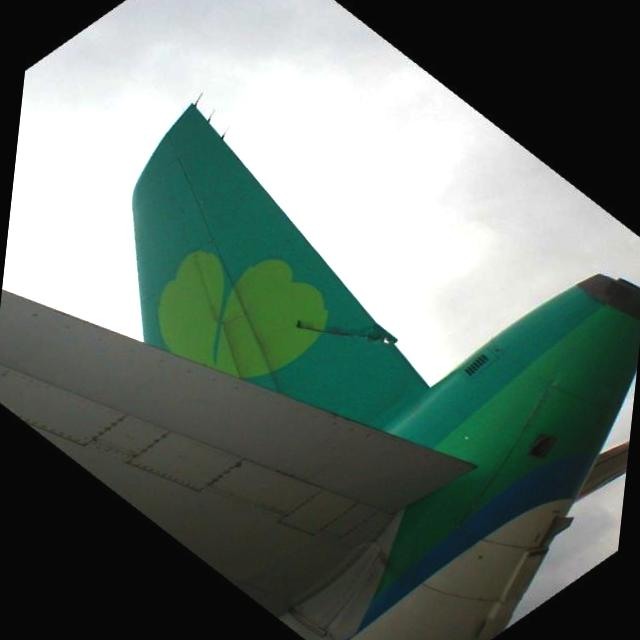crack: (294, 320, 402, 346)
